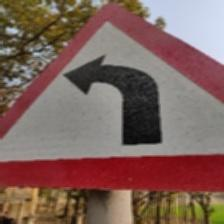Left-Turn: (1, 2, 223, 192)
